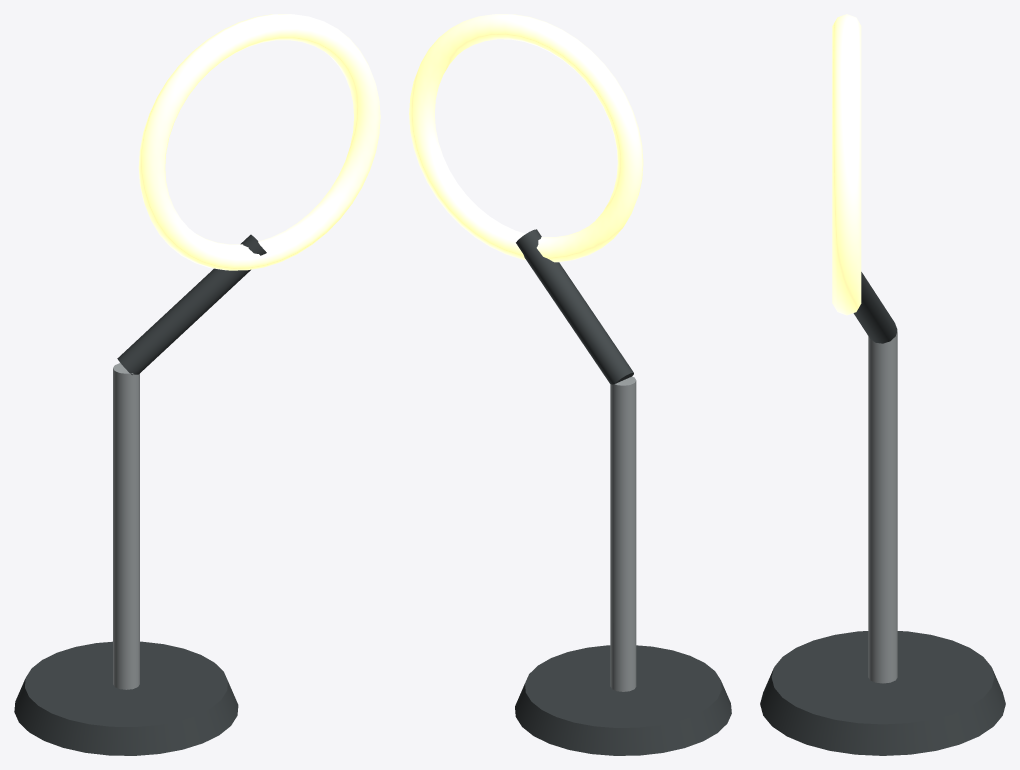
Rendered from acc_ring_light-7132ec816539.glb.
3 renders of one model, left to right at view 1: azimuth 30°, elevation 25°; view 2: azimuth 150°, elevation 25°; view 3: azimuth 270°, elevation 25°, orthographic. The views are drawn at different scales.
Parts seen in each view (by area): view 1: surface_graphite, surface_lit, surface_steel; view 2: surface_graphite, surface_lit, surface_steel; view 3: surface_graphite, surface_steel, surface_lit.
Boxes of the visible parts, box(x1,y1,x2,y2) form: surface_graphite: box(14, 234, 266, 755); surface_lit: box(138, 14, 380, 270); surface_steel: box(113, 363, 139, 689); surface_graphite: box(515, 229, 731, 755); surface_lit: box(409, 14, 643, 262); surface_steel: box(610, 376, 636, 691); surface_graphite: box(760, 272, 1005, 755); surface_steel: box(868, 331, 897, 683); surface_lit: box(832, 14, 861, 315).
Size of the model in its own units: 0.257 by 0.497 by 0.15.
